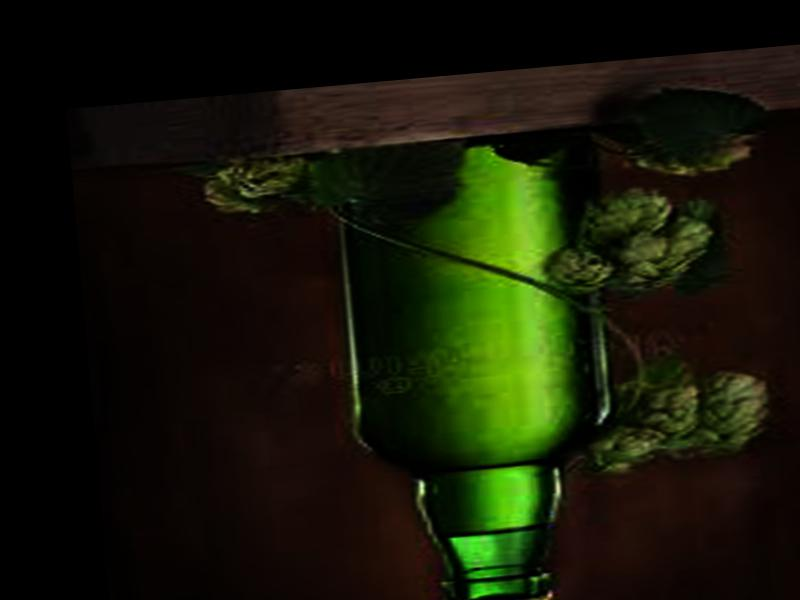Beer: (327, 120, 622, 600)
